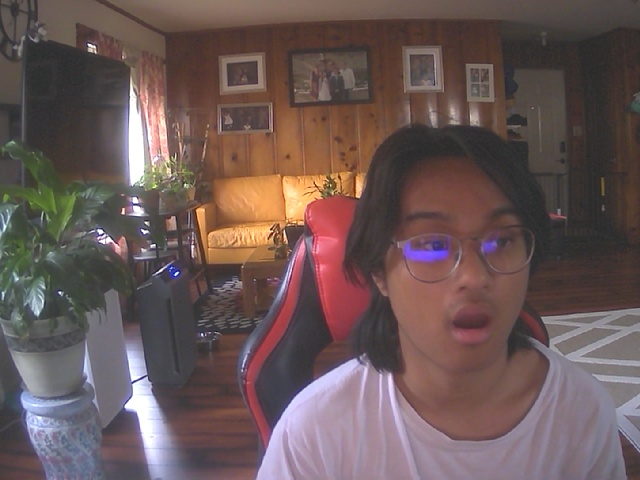fear: (364, 131, 547, 378)
